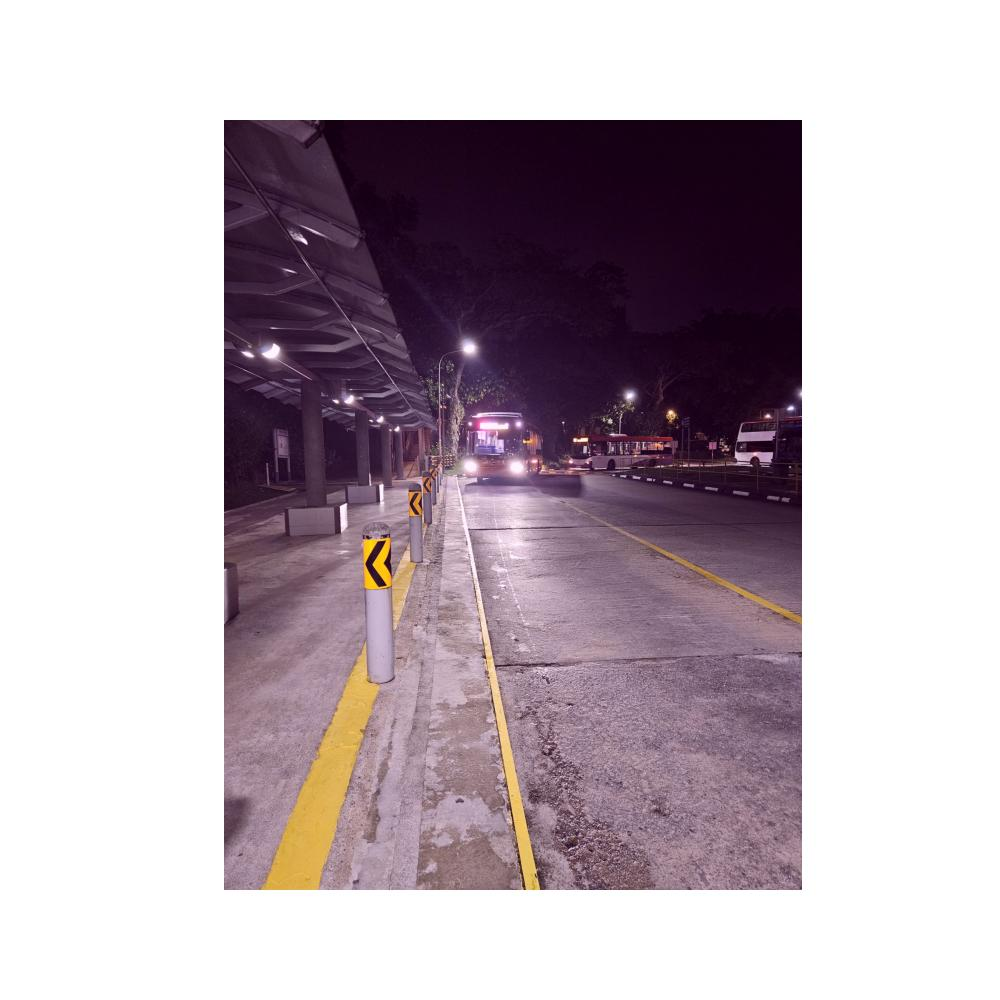bus: (461, 410, 544, 483), (568, 432, 678, 473), (730, 413, 798, 467)
